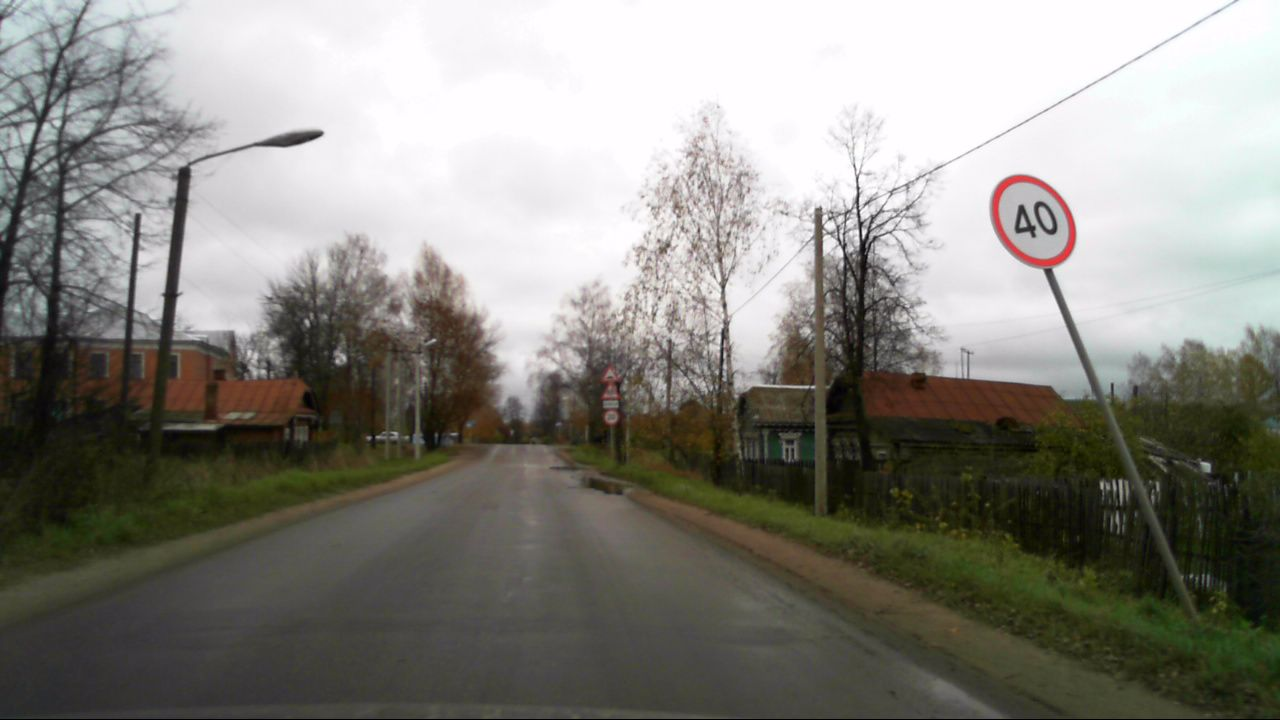speed_warning_40: (988, 173, 1079, 270)
